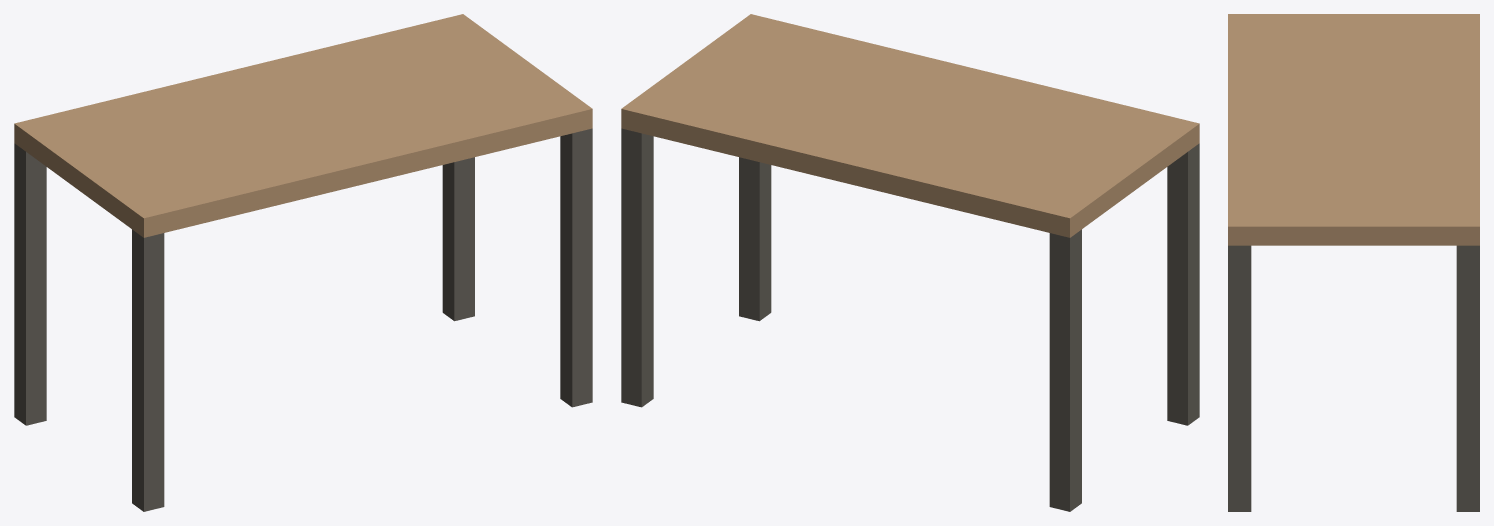
Rendered from BL-COVE.glb.
The picture shows the model from 3 angles, left to right: view 1: azimuth 30°, elevation 25°; view 2: azimuth 150°, elevation 25°; view 3: azimuth 270°, elevation 25°; orthographic projection. The views are drawn at different scales.
Visible parts, largest first — view 1: Top, Leg (×4); view 2: Top, Leg (×4); view 3: Top, Leg (×2).
Part boxes in pixels (left/top/right/bottom): Top: left=14, top=14, right=592, bottom=237; Leg (×4): left=14, top=128, right=592, bottom=511; Top: left=621, top=14, right=1199, bottom=237; Leg (×4): left=621, top=128, right=1199, bottom=511; Top: left=1228, top=14, right=1479, bottom=245; Leg (×2): left=1228, top=245, right=1479, bottom=511.
Bounding box in the file's own units: 1.2 × 0.75 × 0.6.
